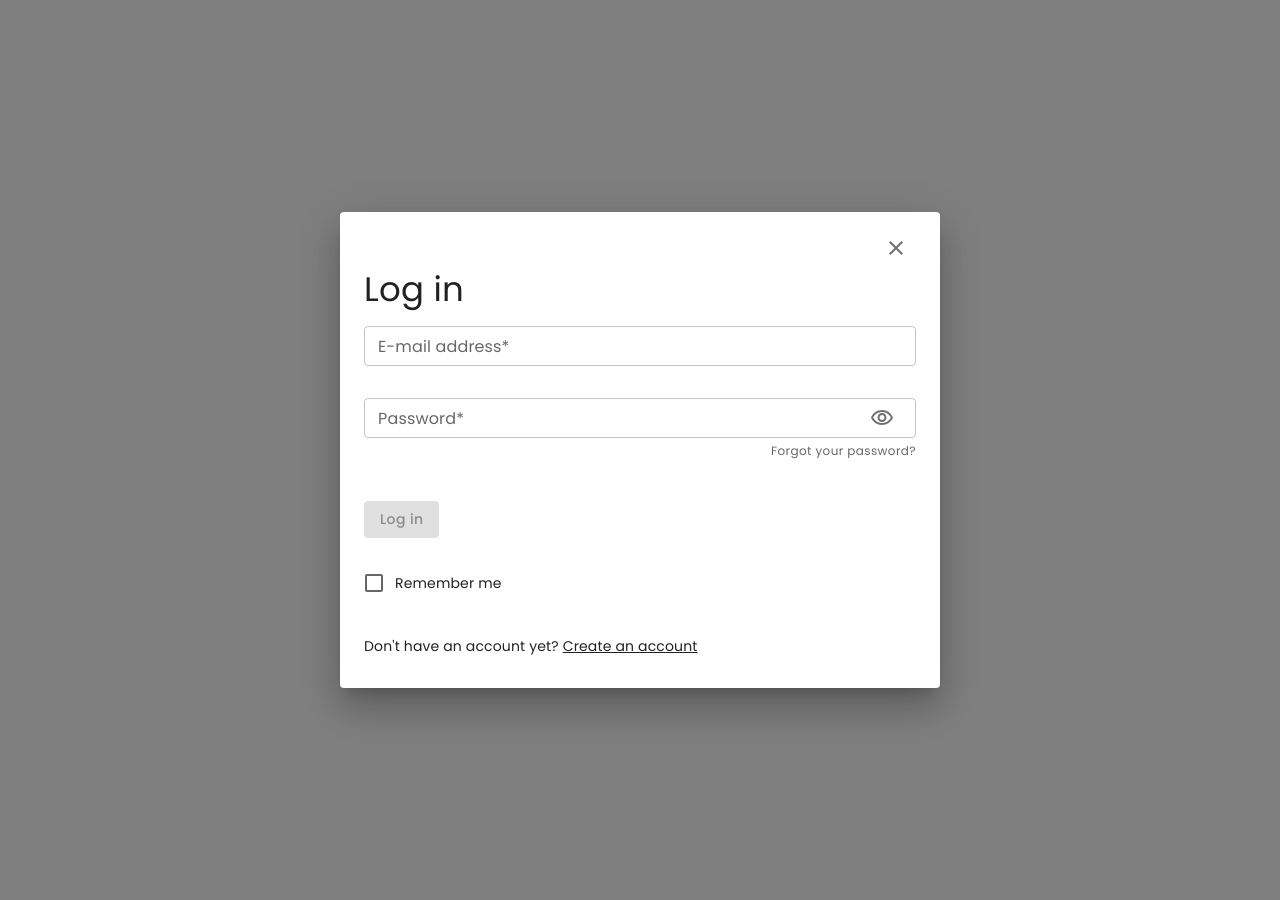
Test: sign in button is enabled if valid credentials are provided
In the field labelled "E-mail address*": (640, 346) x1=364 y1=326 x2=916 y2=366, type "valid@email.com"
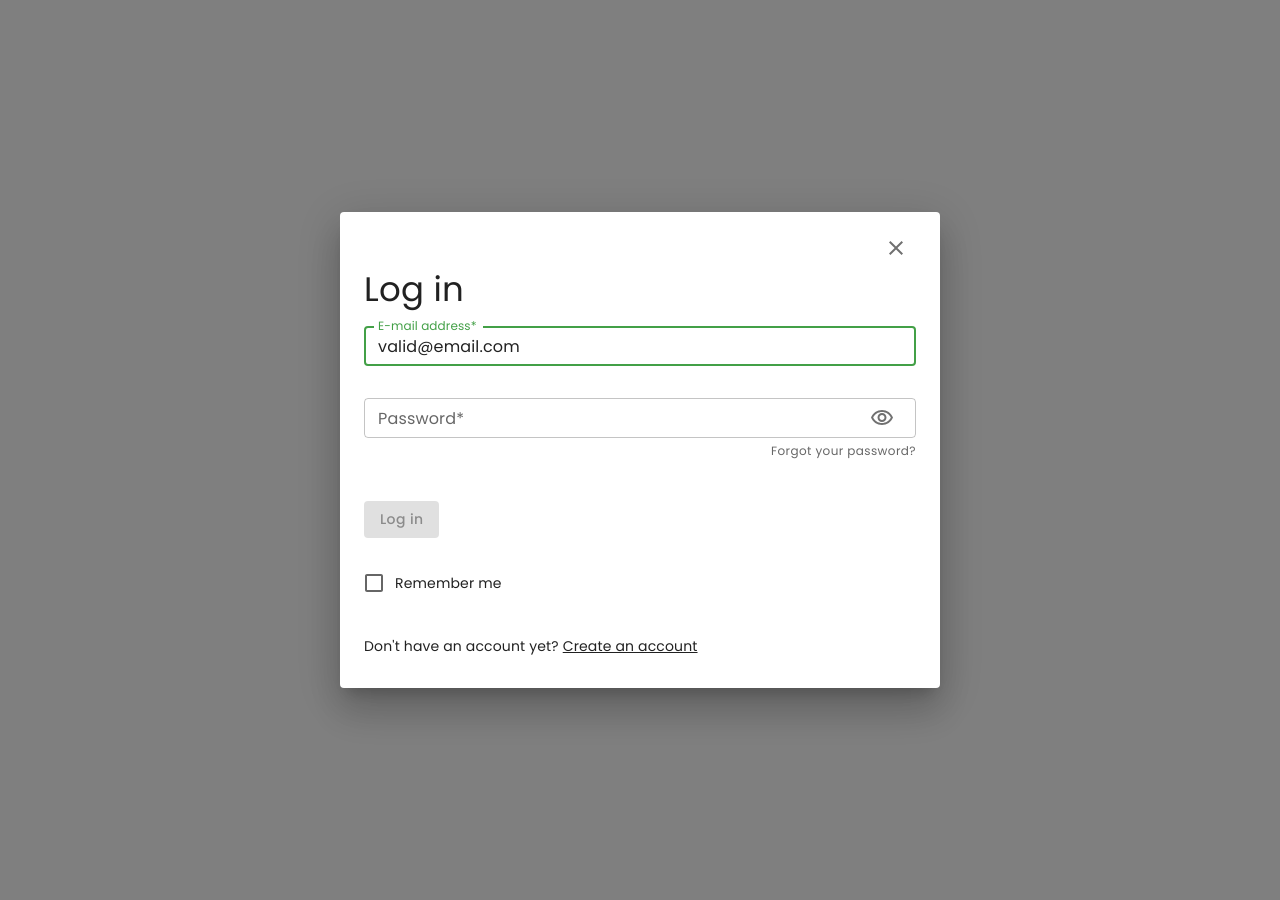
In the password field labelled "Password*": (609, 418) x1=364 y1=398 x2=854 y2=438, type "some-password"
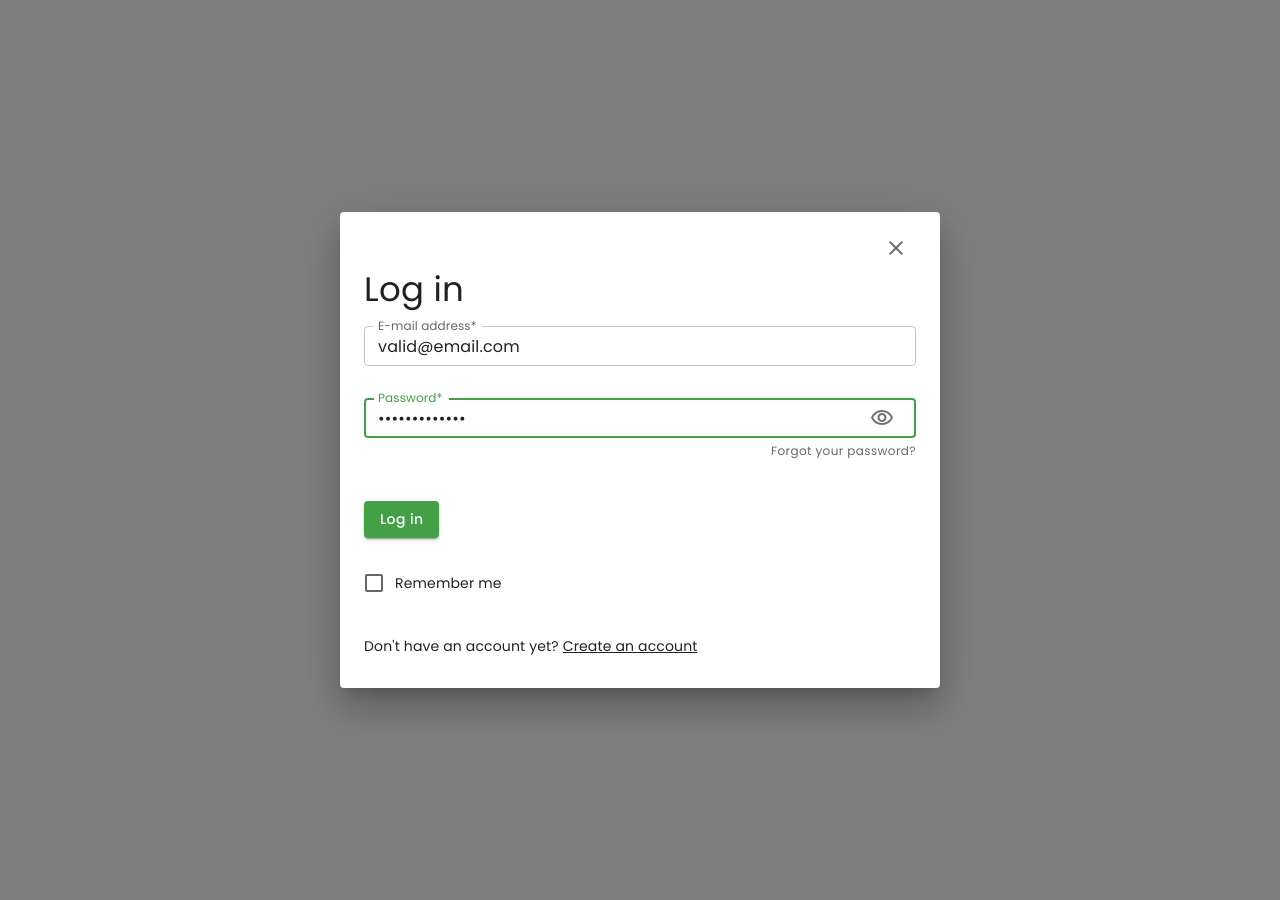
Result: the button "Log in" is enabled at x1=364 y1=501 x2=440 y2=538
